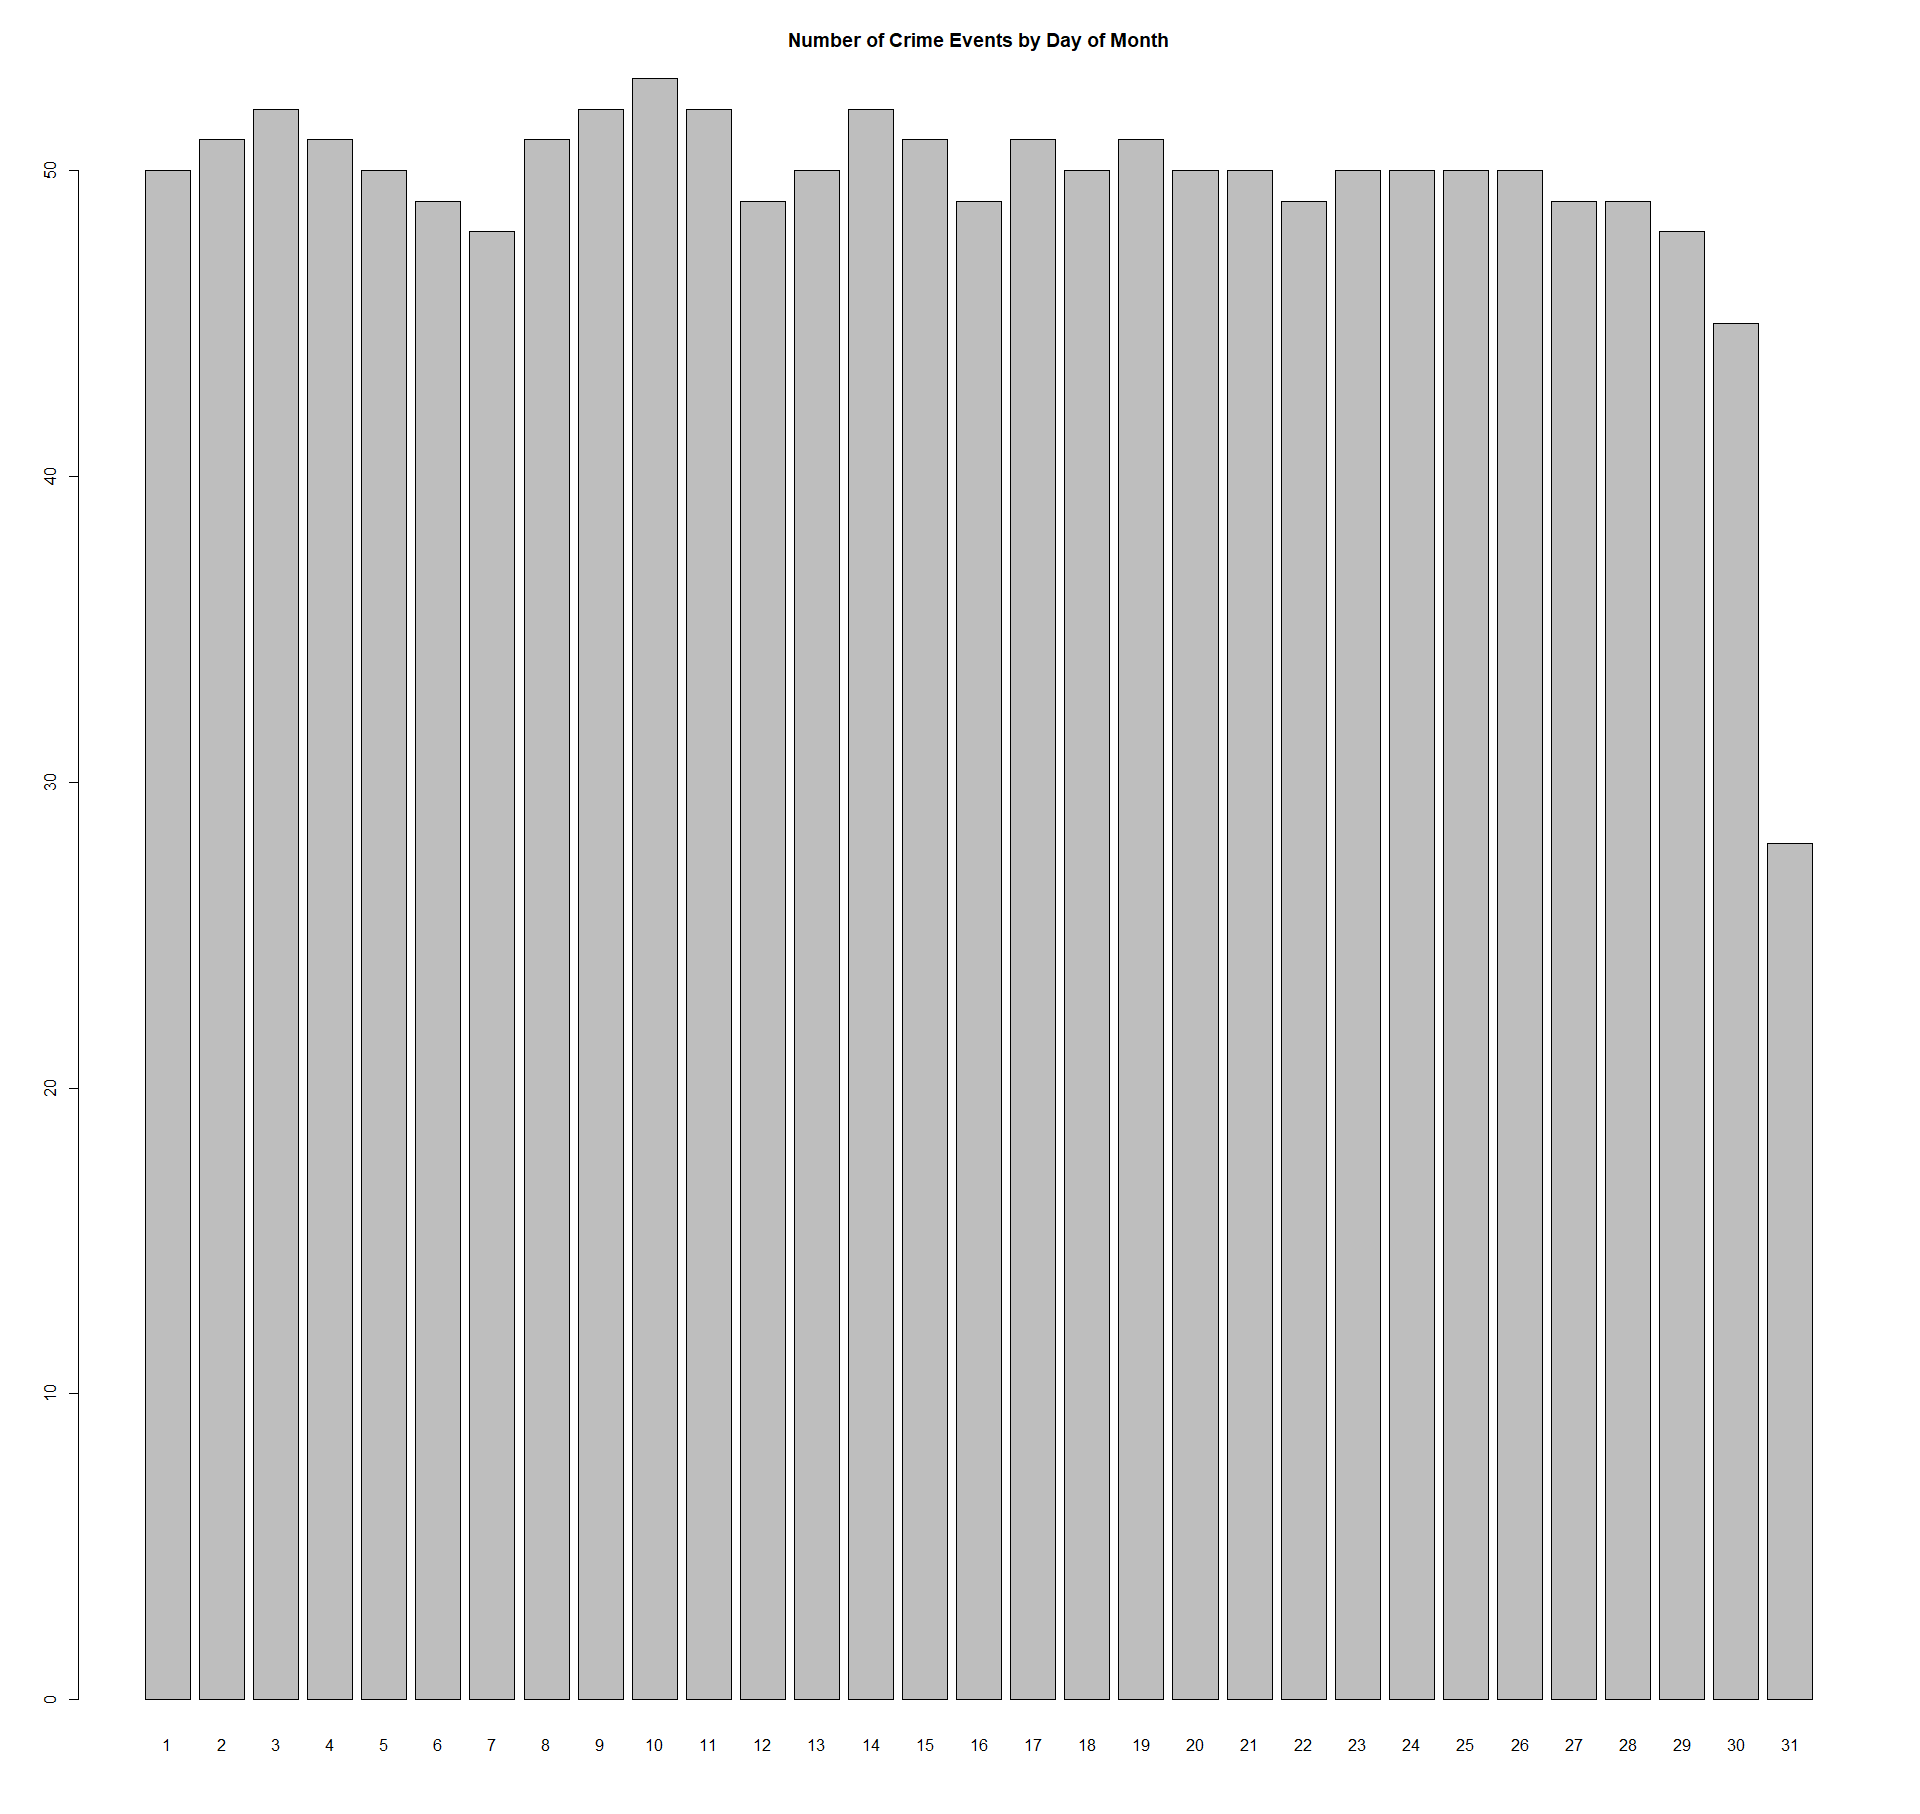

The page's visual inventory and layout, read from the dashboard file:
{"tool":"tableau","page":{"name":"Dashboard 1","canvas":[1000,800],"ordinal":0},"visuals":[{"type":"worksheet","title":"Sheet 2","mark":"Bar","rows":["c_violation"],"cols":["j_finding","date2"],"box":[8,8,984,784]}]}

Visuals, with their boxes on the page's 1000x800 design canvas (x1, y1, x2, y2). These are canvas units, not pixel positions in the 1920x1814 screenshot, which may show the page scaled, cropped or inside an application window:
"Sheet 2" worksheet (Bar marks): x1=8 y1=8 x2=992 y2=792
